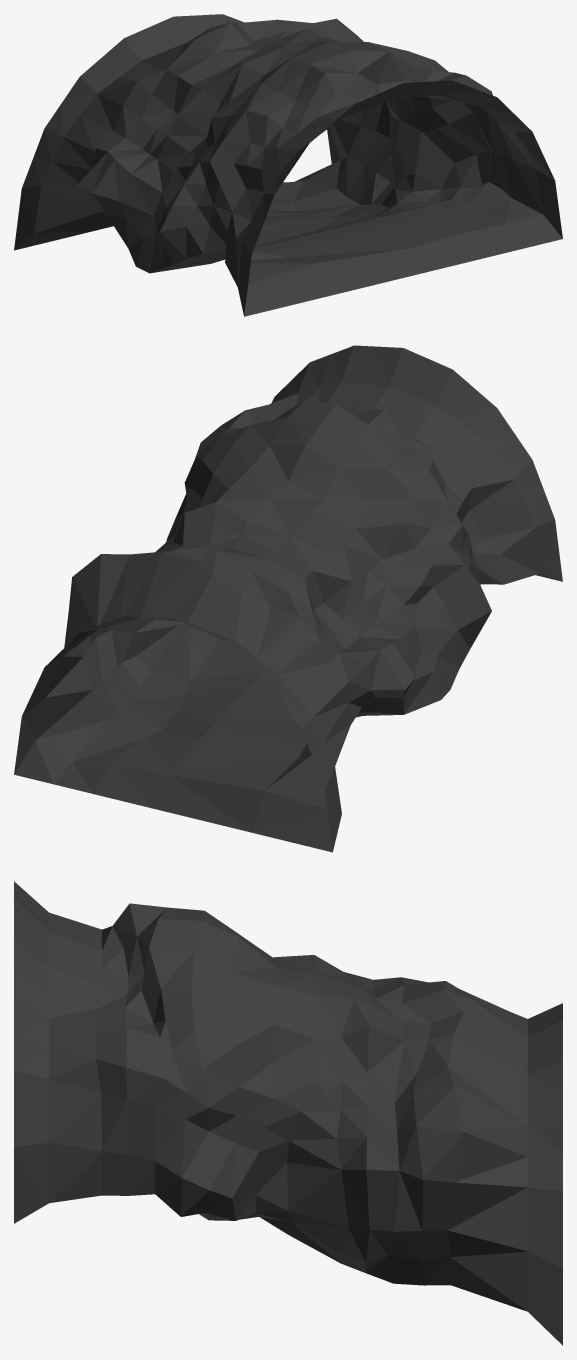
Rendered from Cave_6A_LOD_1.fbx.
3 renders of one model, top to bottom at view 1: azimuth 30°, elevation 25°; view 2: azimuth 150°, elevation 25°; view 3: azimuth 270°, elevation 25°, orthographic. The views are drawn at different scales.
Parts seen in each view (by area): view 1: pCylinder11; view 2: pCylinder11; view 3: pCylinder11.
Part boxes in pixels (x1,y1,x2,y2): pCylinder11: [14, 14, 562, 316]; pCylinder11: [14, 345, 562, 852]; pCylinder11: [14, 881, 562, 1345].
Bounding box in the file's own units: 8.43 × 7.35 × 10.32.
